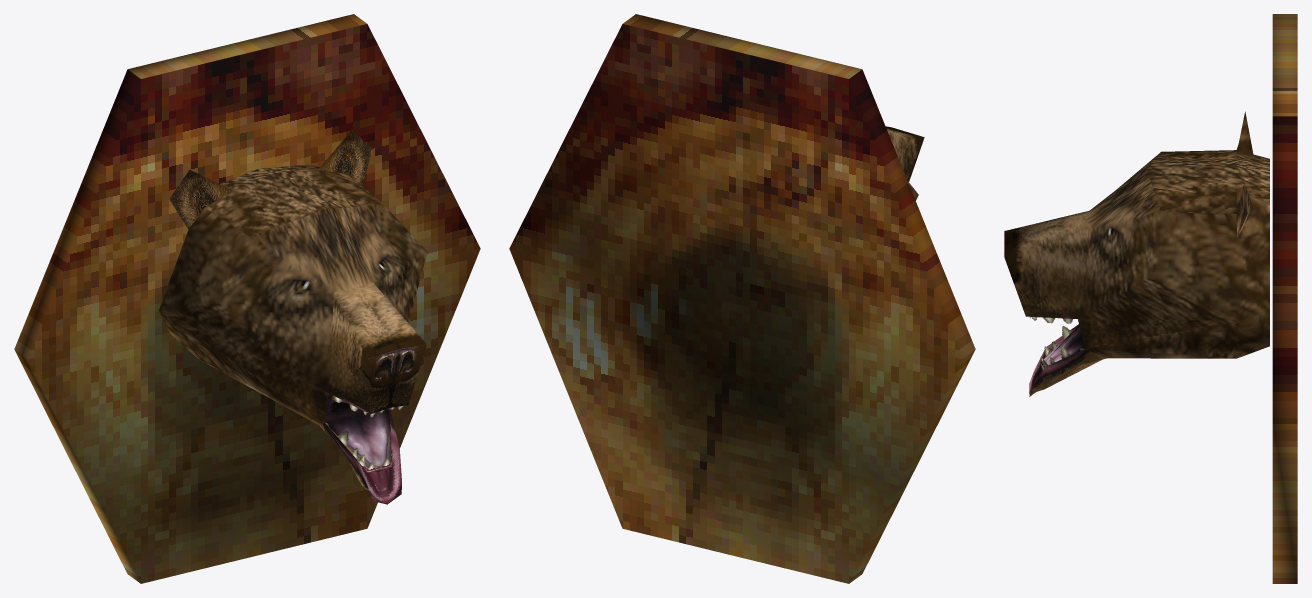
The model's file is BEARHEAD_ACTORDEF.fbx.
3 views of the same model, side by side, from view 1: azimuth 30°, elevation 25°; view 2: azimuth 150°, elevation 25°; view 3: azimuth 270°, elevation 25° (orthographic). The views are drawn at different scales.
Parts seen in each view (by area): view 1: U3DMesh; view 2: U3DMesh; view 3: U3DMesh.
Part boxes in pixels (bbox=[...]): U3DMesh: bbox=[14, 14, 480, 583]; U3DMesh: bbox=[509, 14, 975, 583]; U3DMesh: bbox=[1004, 14, 1297, 583].
Size of the model in its own units: 5.96 by 6.35 by 3.61.
